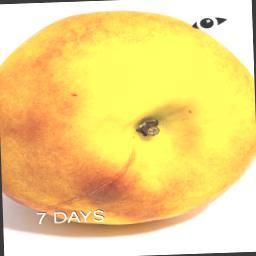Peach Ripe: (0, 2, 256, 230)
